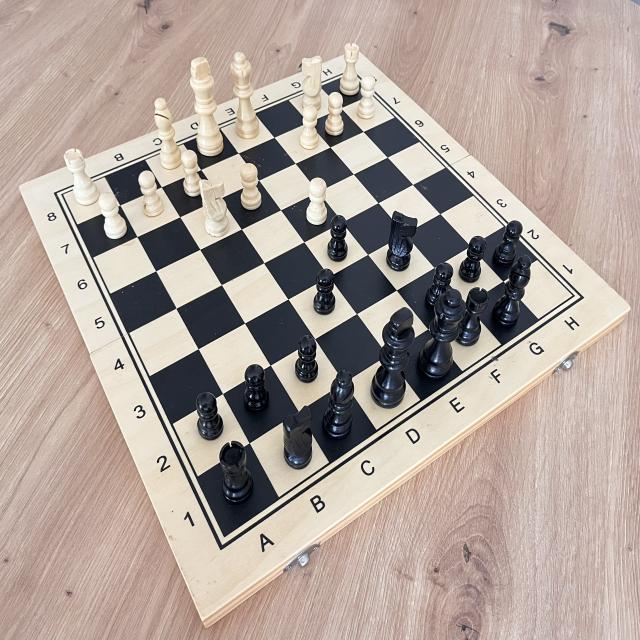black-bishop: (488, 250, 533, 336), (319, 367, 357, 444)
black-king: (368, 304, 418, 412)
black-knight: (278, 403, 317, 473)
black-pawn: (489, 217, 525, 273), (423, 258, 456, 314), (192, 388, 226, 442), (239, 360, 271, 417), (456, 232, 488, 284), (291, 332, 321, 384), (310, 267, 338, 316), (325, 212, 351, 264)
black-queen: (414, 287, 470, 387)
black-rook: (214, 439, 256, 509), (452, 284, 492, 349)
white-bishop: (148, 94, 186, 172)
white-king: (186, 54, 226, 158)
white-knight: (196, 176, 232, 241), (298, 52, 324, 114)
white-pawn: (96, 190, 129, 242), (134, 168, 166, 219), (178, 146, 206, 200), (304, 173, 330, 228), (238, 159, 264, 213), (296, 101, 322, 152), (323, 88, 346, 138), (356, 74, 378, 122)
white-queen: (228, 48, 262, 142)
white-rook: (61, 146, 101, 207), (338, 39, 363, 98)
